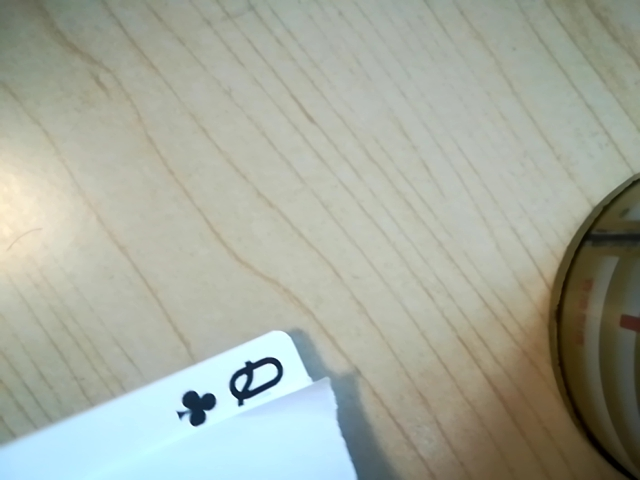mh q: (168, 346, 307, 427)
